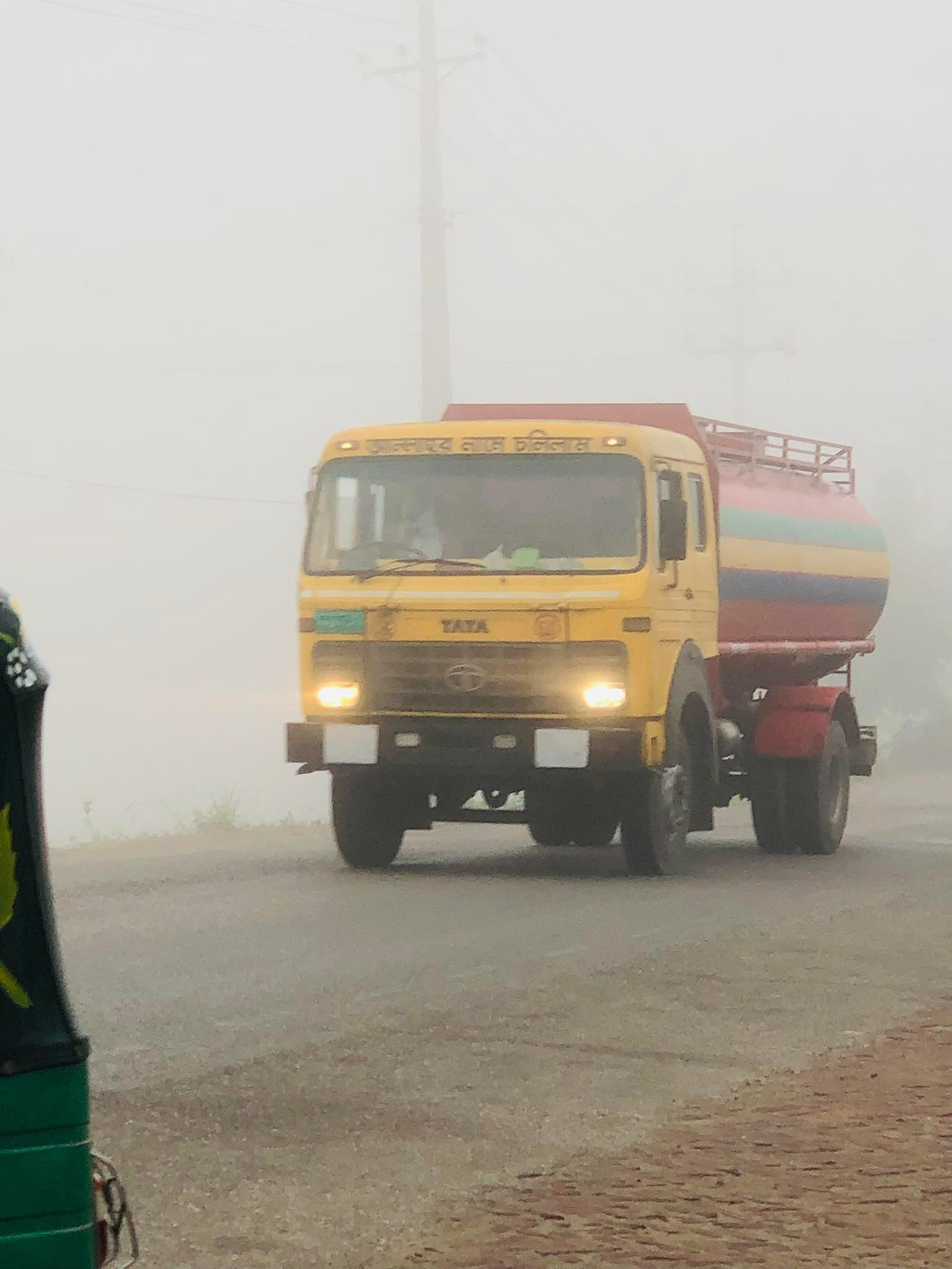Truck: (251, 379, 895, 902)
